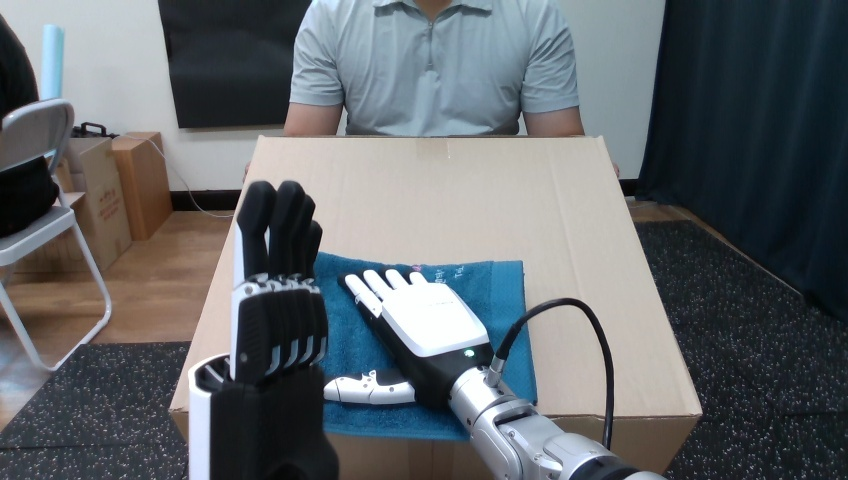left robot hand: (324, 269, 663, 479), (188, 181, 338, 479), (501, 304, 606, 444)
